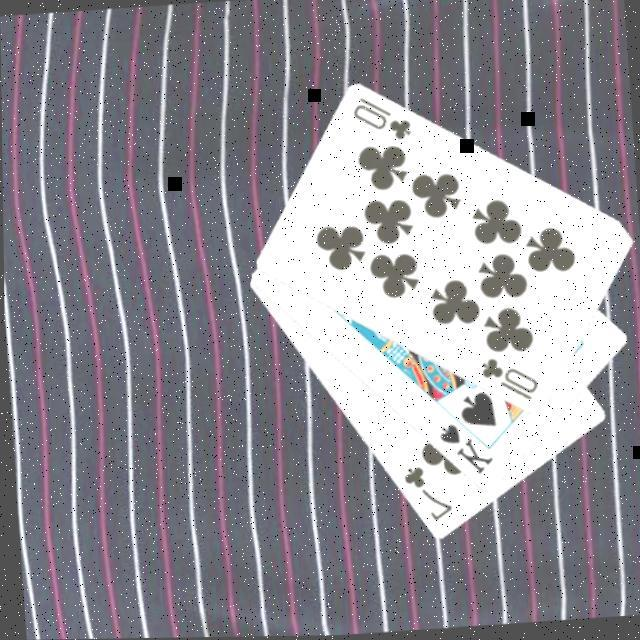10C: (346, 91, 414, 147), (474, 352, 540, 408)
7C: (396, 462, 453, 528)
KS: (432, 418, 494, 482)
